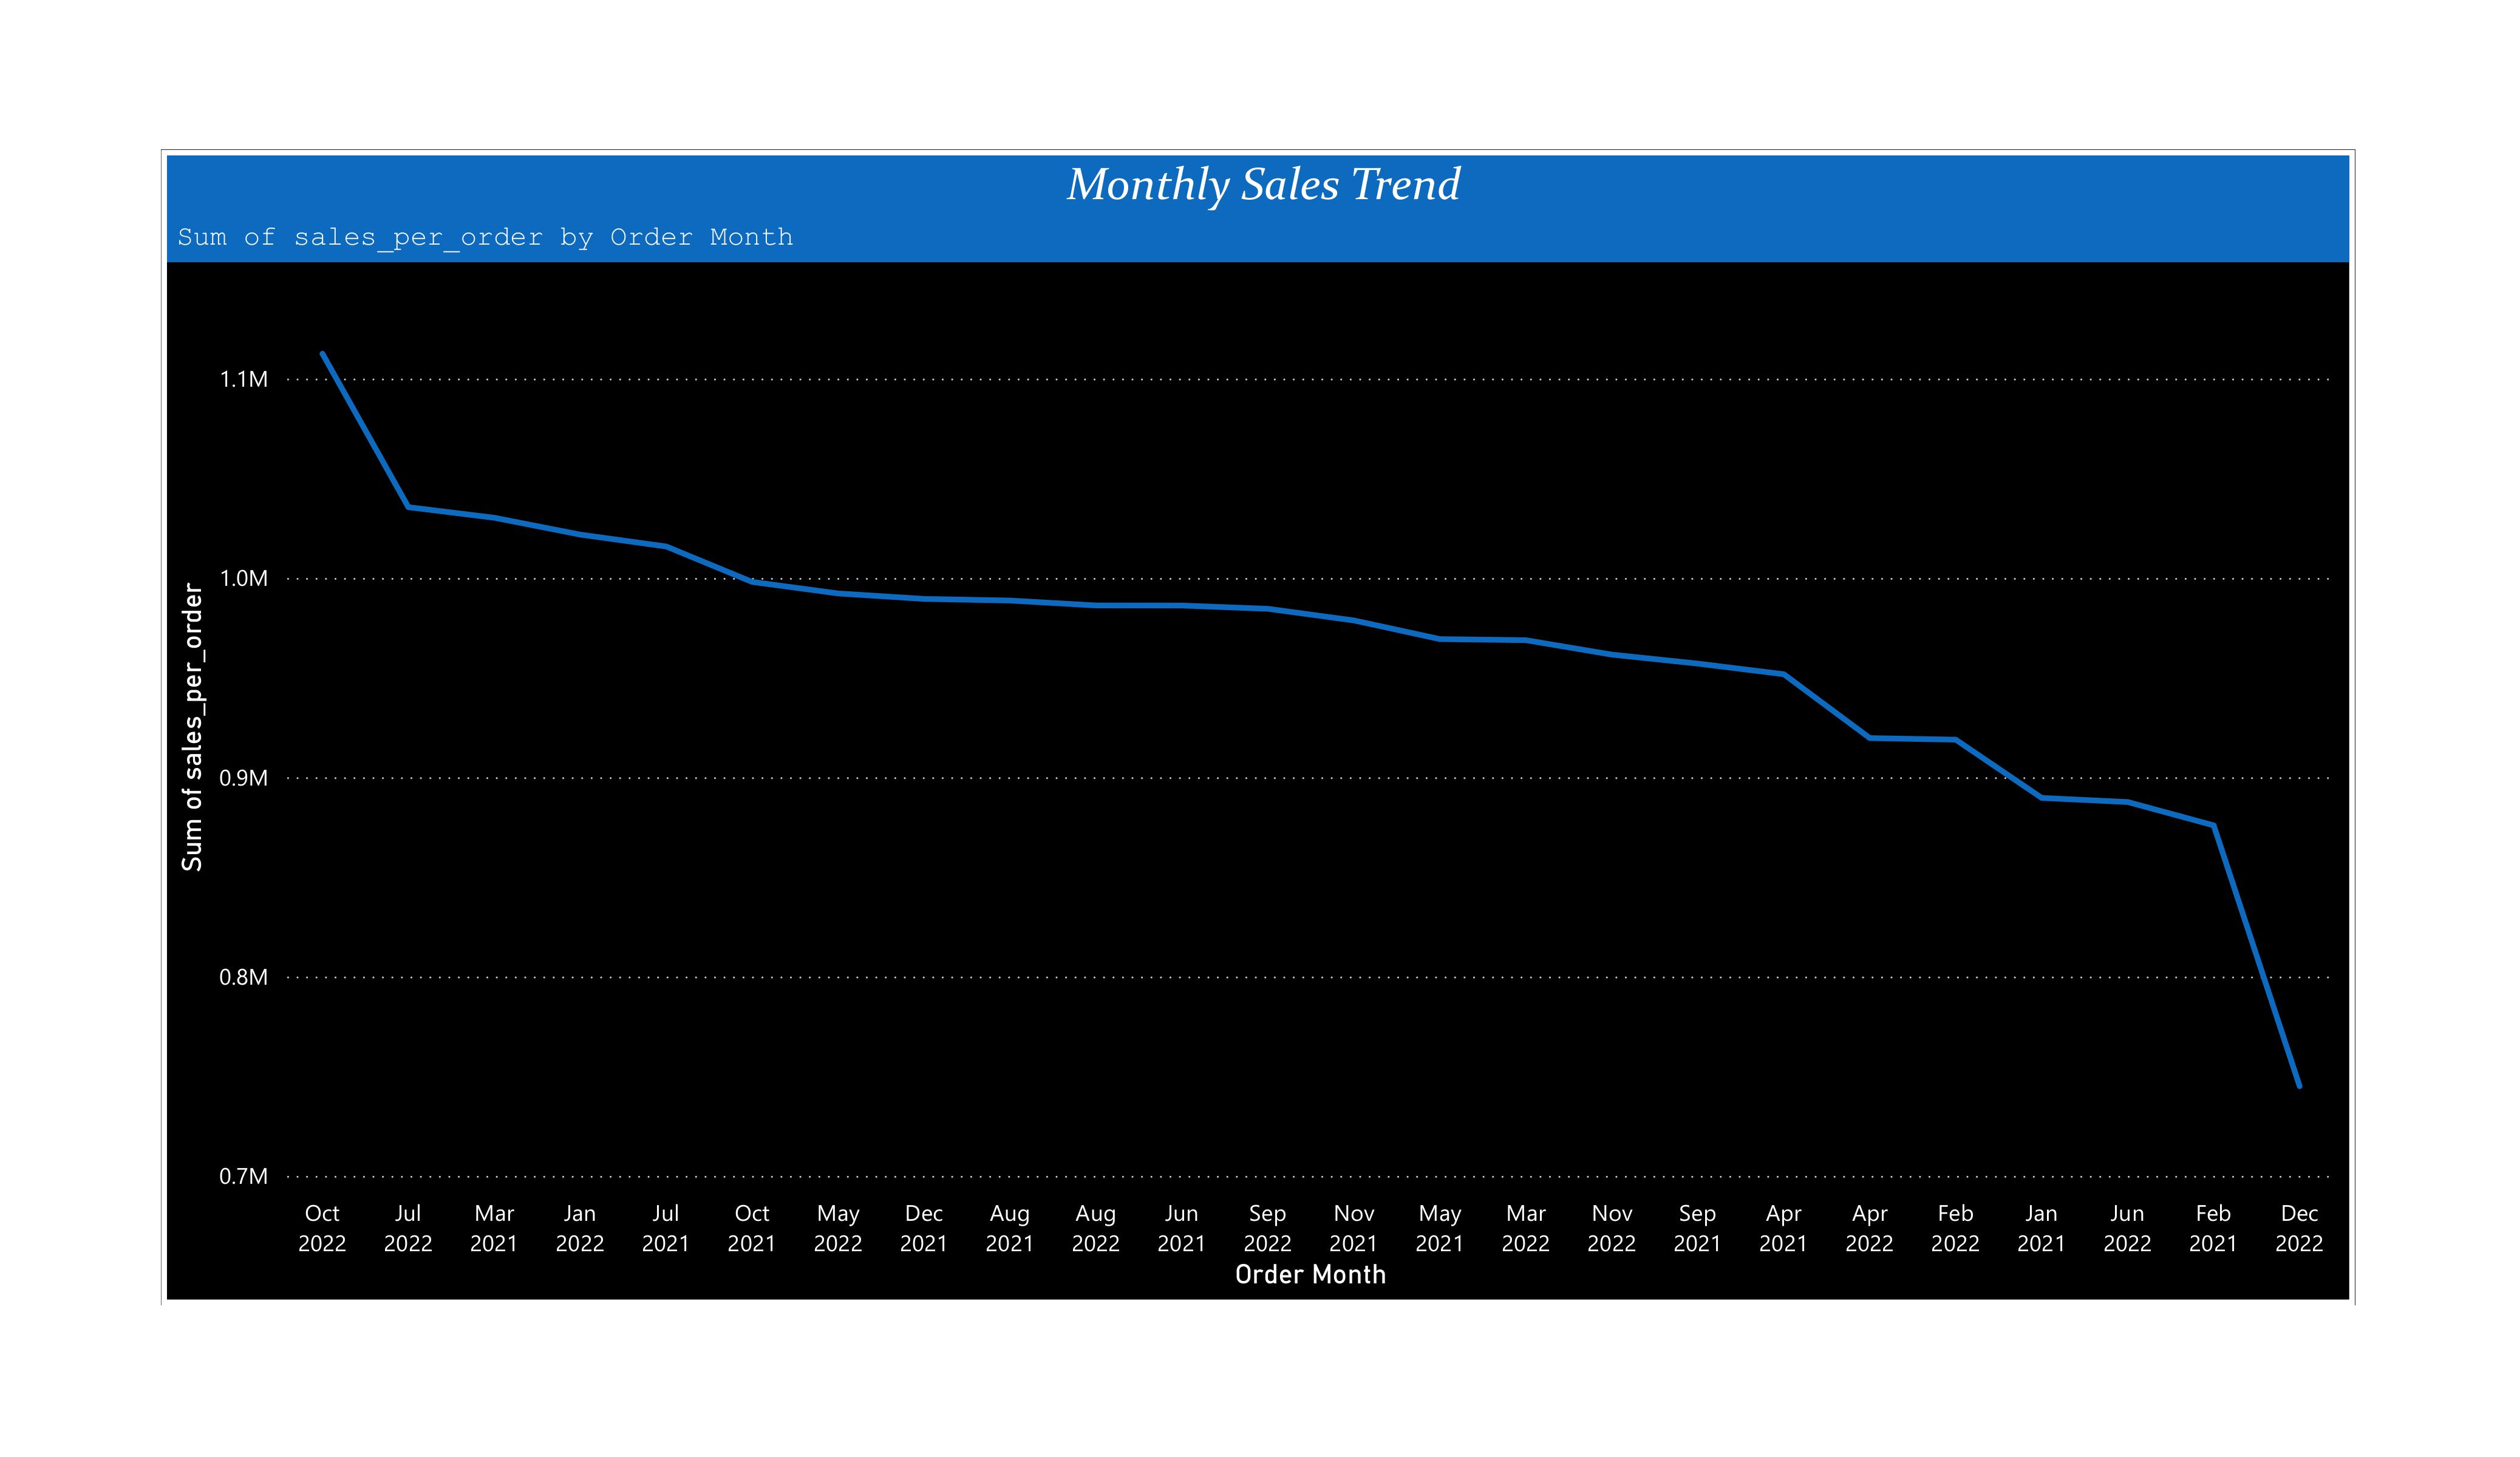

The dashboard page shown, as its layout file describes it:
{"tool":"powerbi","page":{"name":" Monthly Sales Trend","canvas":[1280,720],"ordinal":1},"visuals":[{"type":"lineChart","title":"Monthly Sales Trend","fields":{"Category":["ecommerce_data.Order Month"],"Y":["Sum(ecommerce_data.sales_per_order)"]},"box":[61.1,55,1155.6,609],"z":1}]}

Visuals, with their boxes on the page's 1280x720 design canvas (x1, y1, x2, y2). These are canvas units, not pixel positions in the 2520x1457 screenshot, which may show the page scaled, cropped or inside an application window:
"Monthly Sales Trend" lineChart: 61, 55, 1217, 664
